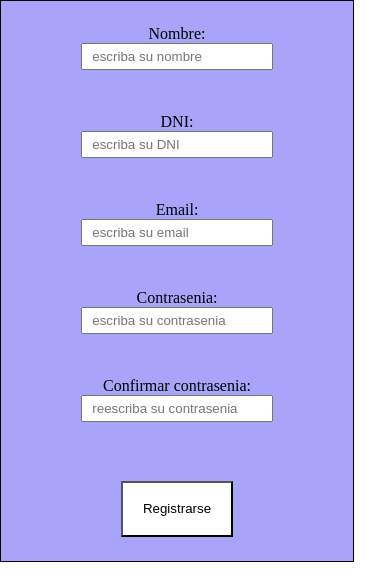
Test case: - Test FormularioRegister - › - Aparecen los texto de las errores - › Campo email no es valido
Type "123" into the field labelled "Email" at (177, 232), box x1=81 y1=219 x2=273 y2=246
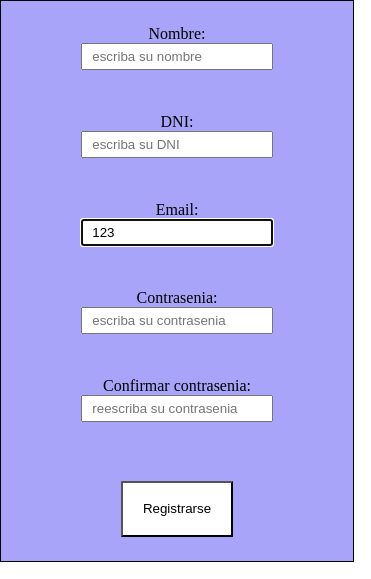
Click the button "Registrarse" at (177, 509), box x1=121 y1=481 x2=233 y2=537
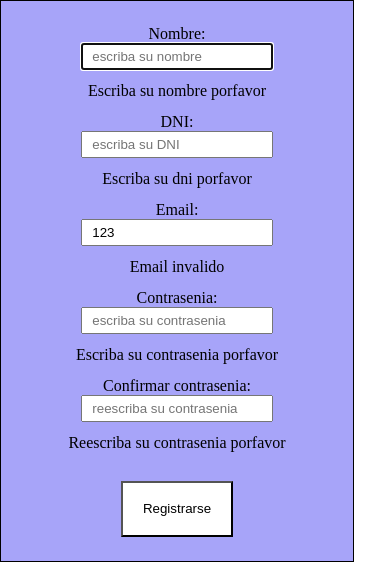
Expected: the text "Email invalido" is shown, x1=130 y1=258 x2=224 y2=276
